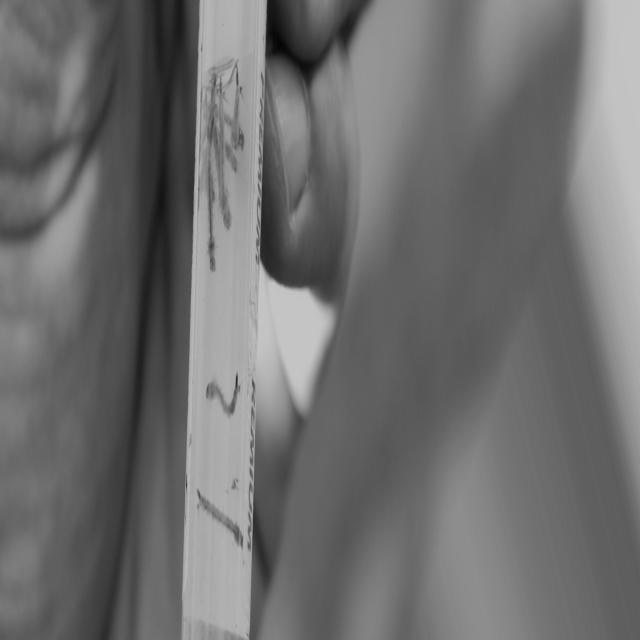larvas: (193, 491, 245, 543), (208, 86, 218, 270), (219, 86, 231, 230), (209, 373, 239, 416), (232, 73, 243, 146), (225, 137, 240, 169)
